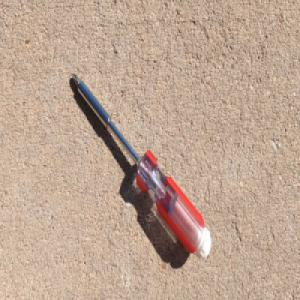Screwdriver: (70, 69, 212, 262)
